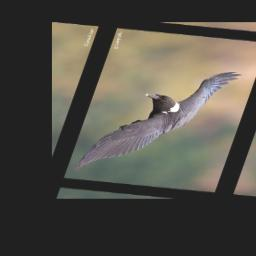Crow: (71, 60, 244, 184)
